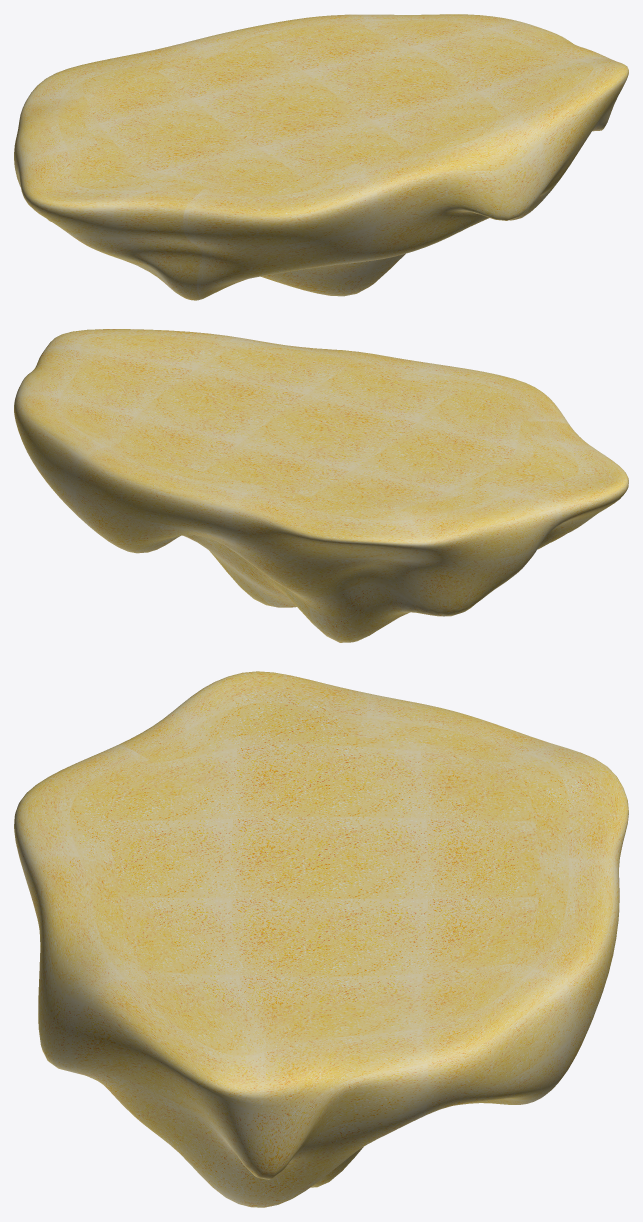
File: island.glb
3 renders of one model, top to bottom at view 1: azimuth 30°, elevation 25°; view 2: azimuth 150°, elevation 25°; view 3: azimuth 270°, elevation 25°, orthographic. The views are drawn at different scales.
Visible parts, largest first — view 1: 立方体; view 2: 立方体; view 3: 立方体.
Boxes of the visible parts, <box> form: 立方体: <box>14,14,628,300</box>; 立方体: <box>14,329,628,642</box>; 立方体: <box>14,671,628,1207</box>.
Bounding box in the file's own units: 2.85 × 0.9041 × 1.78.
1 material, 1 textured.
